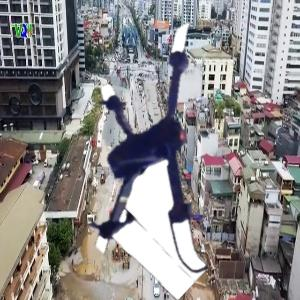drone: (42, 28, 280, 266)
